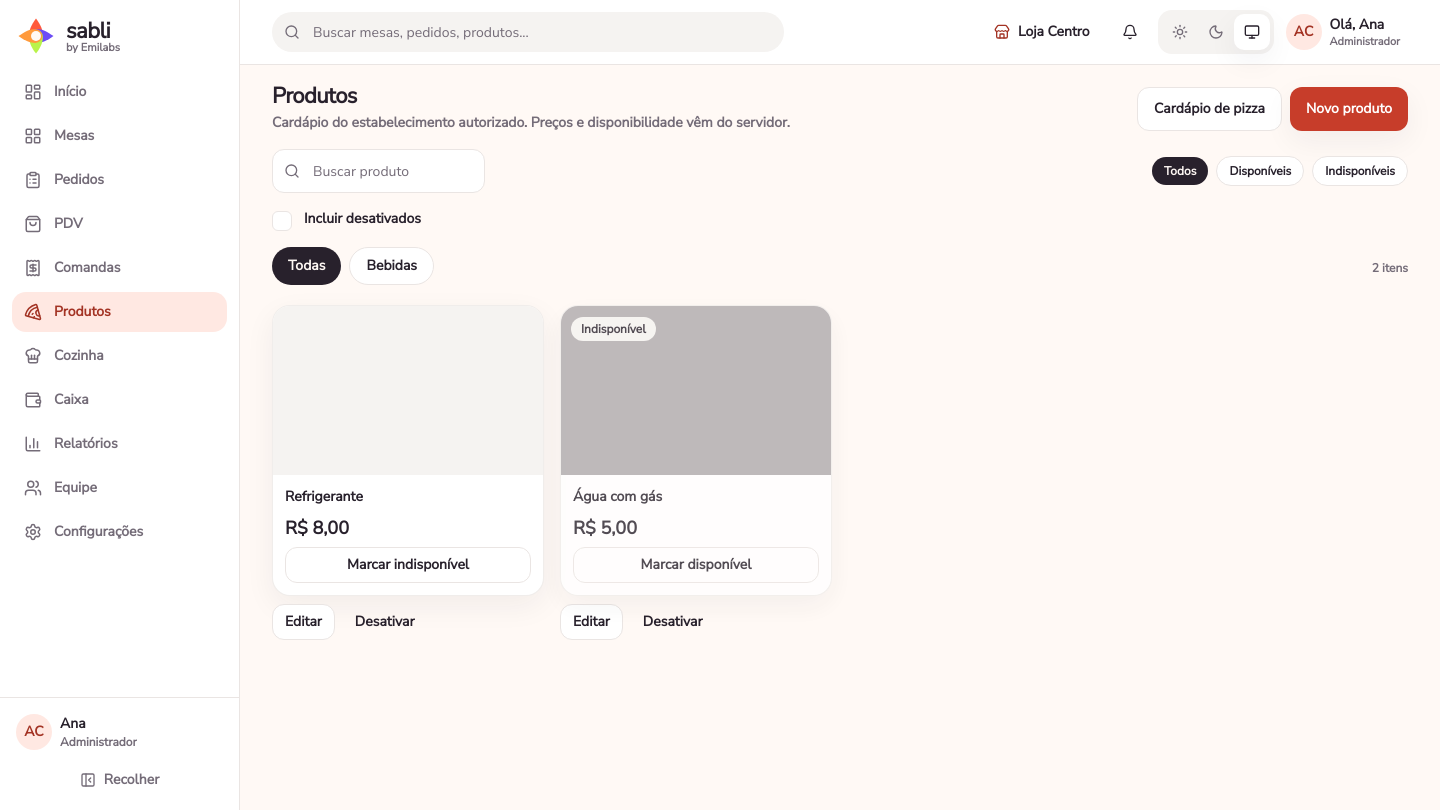
it: catálogo API › filtra por busca e disponibilidade
This screenshot has width=1440, height=810.
Check: the heading "Refrigerante" is shown, box x1=285 y1=487 x2=363 y2=506
Type "água" into the search field labelled "Buscar produto" at (378, 171), box x1=272 y1=149 x2=485 y2=193
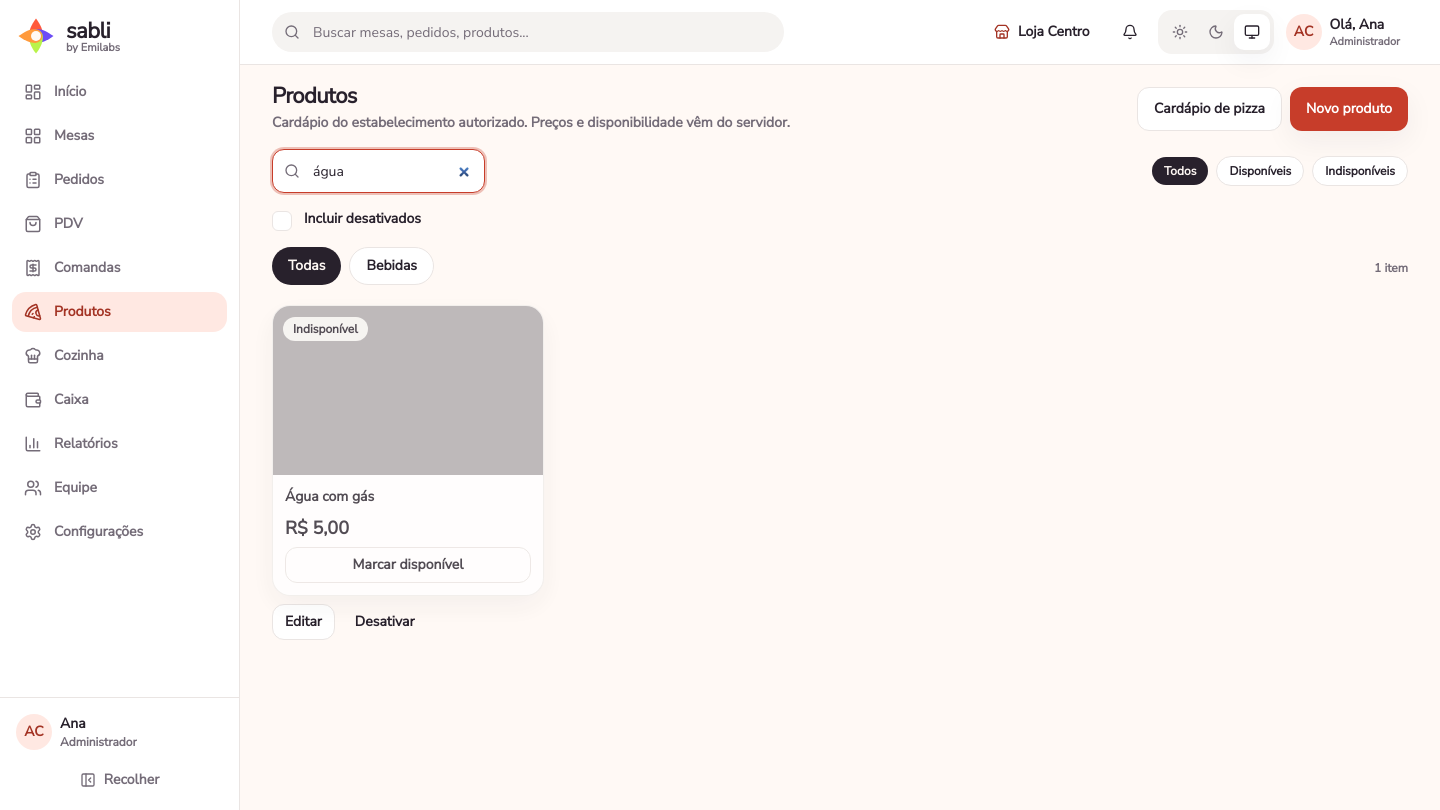
Check: the heading "Água com gás" is shown, box x1=285 y1=487 x2=374 y2=506
Check: the heading "Refrigerante" is gone
Clear the search field named "Buscar produto" at (378, 171), box x1=272 y1=149 x2=485 y2=193
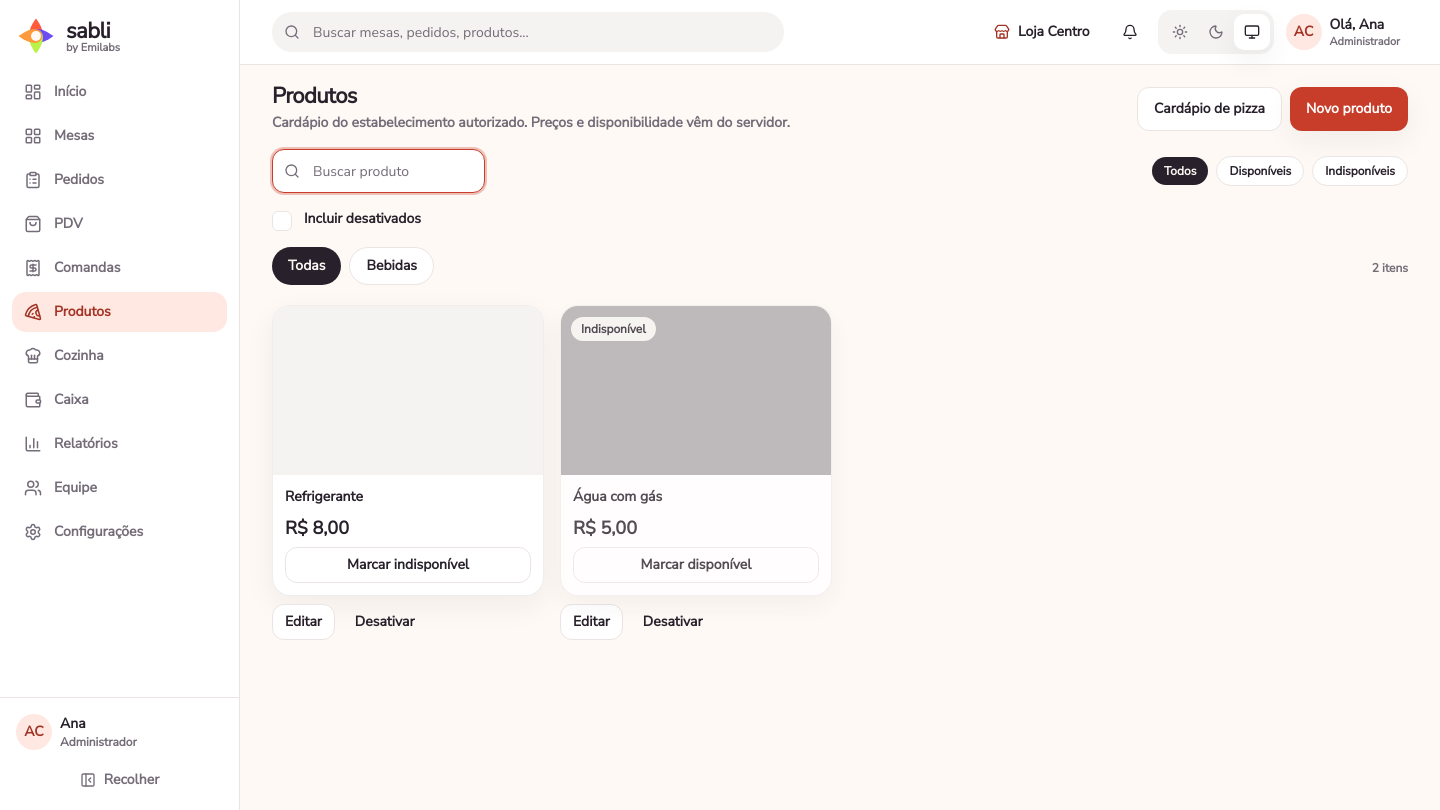
Click the button "Indisponíveis" at (1360, 171), box x1=1312 y1=156 x2=1408 y2=186
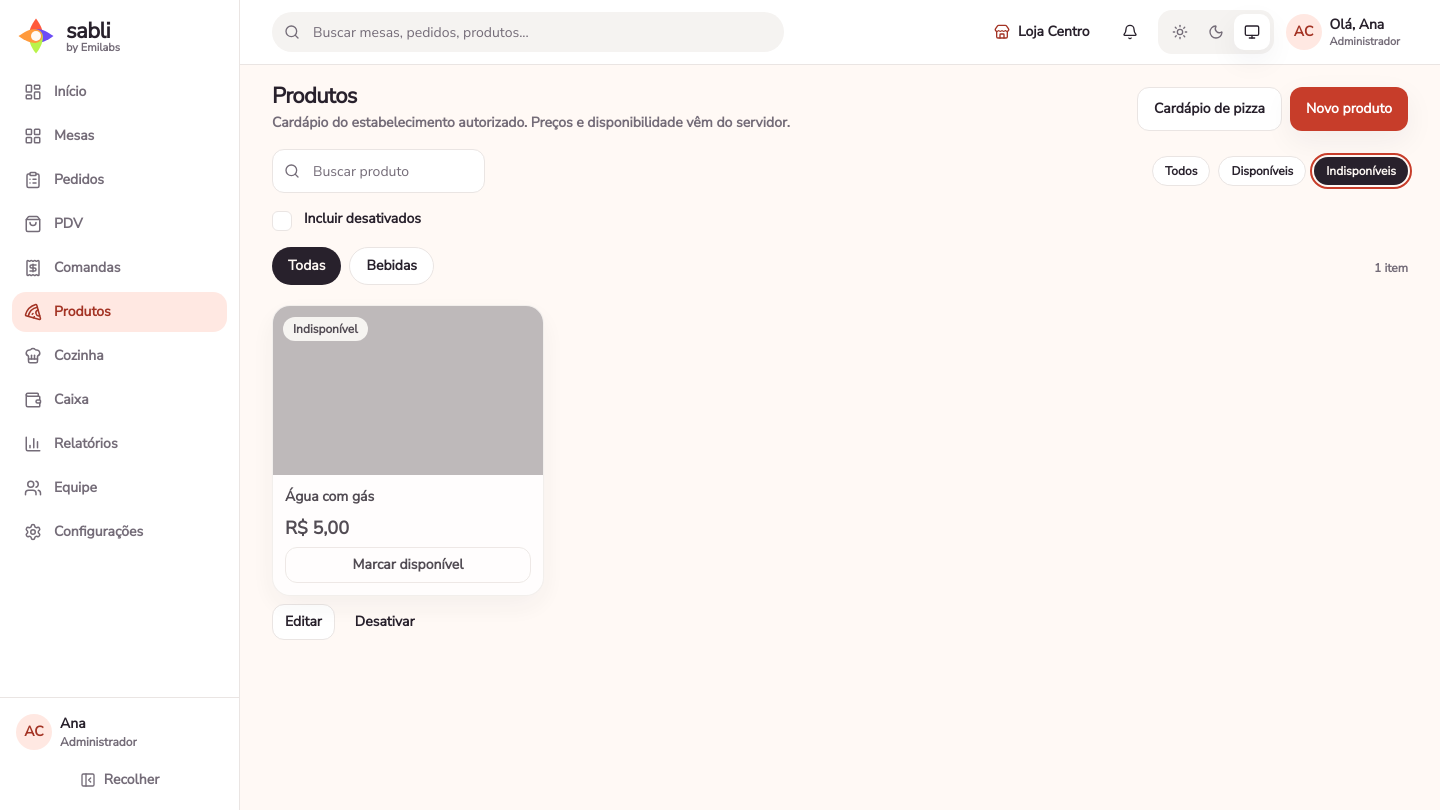
Check: the heading "Água com gás" is shown, box x1=285 y1=487 x2=374 y2=506
Check: the heading "Refrigerante" is gone
